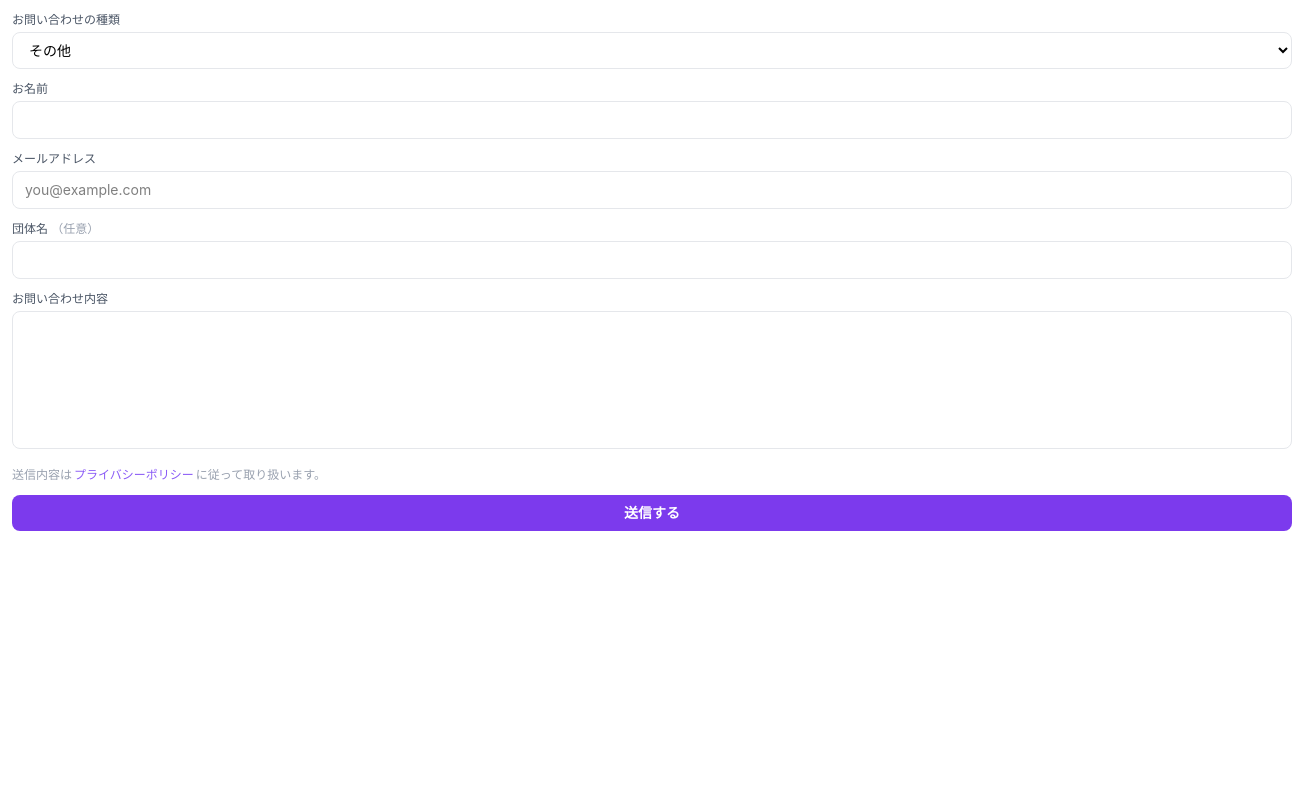
Test: InquiryForm › レート制限（429）の場合はサーバーのメッセージを表示する
Type "山田 太郎" into the field labelled "お名前" at (652, 120), box [12, 101, 1292, 139]
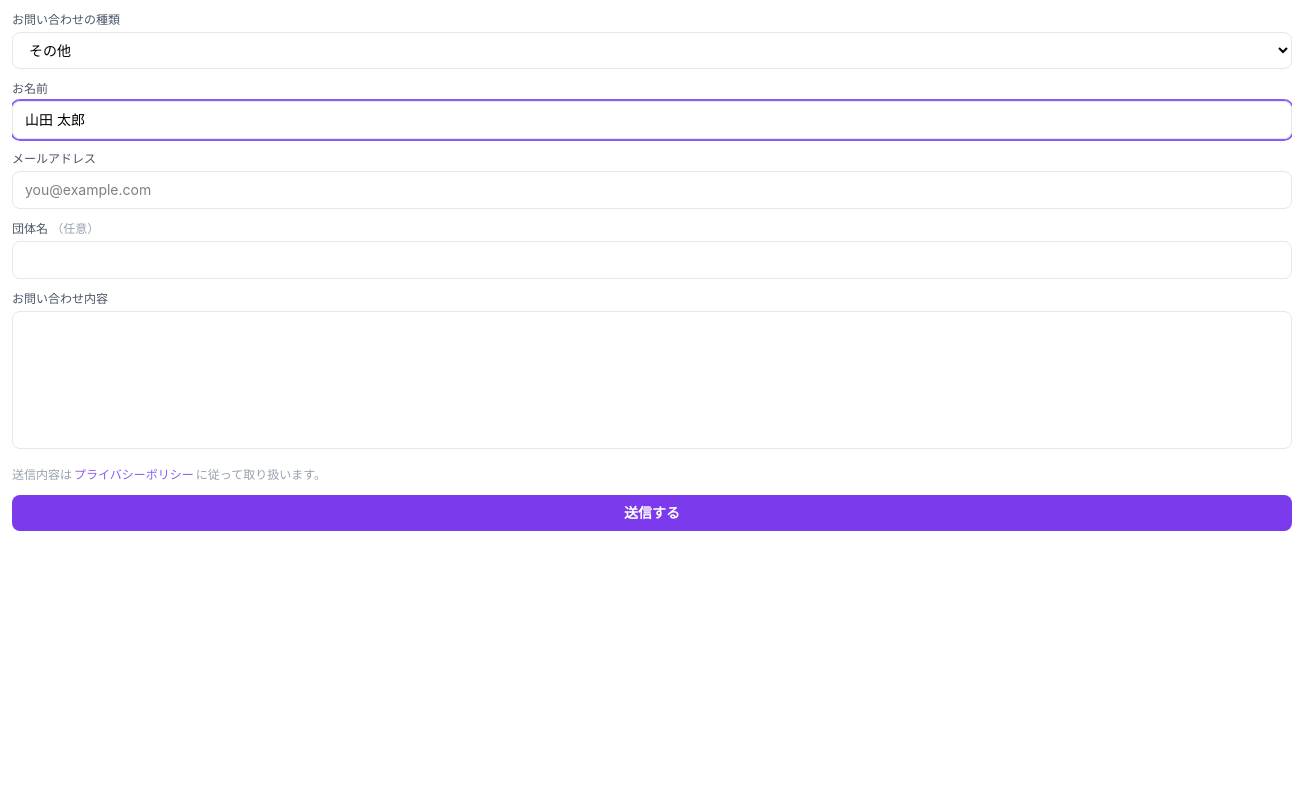
Type "yamada@example.com" into the field labelled "メールアドレス" at (652, 190), box [12, 171, 1292, 209]
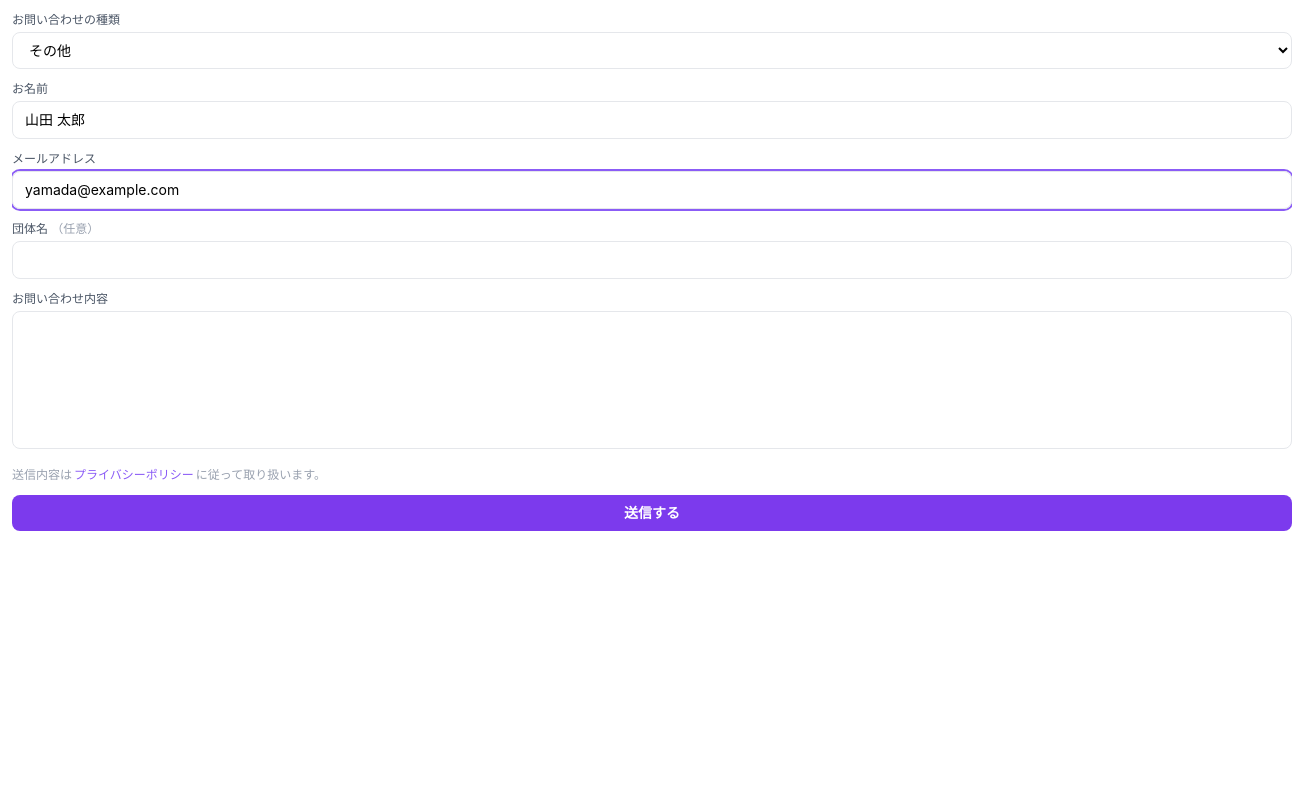
Type "団体を復元してください" into the text box labelled "お問い合わせ内容" at (652, 380), box [12, 311, 1292, 449]
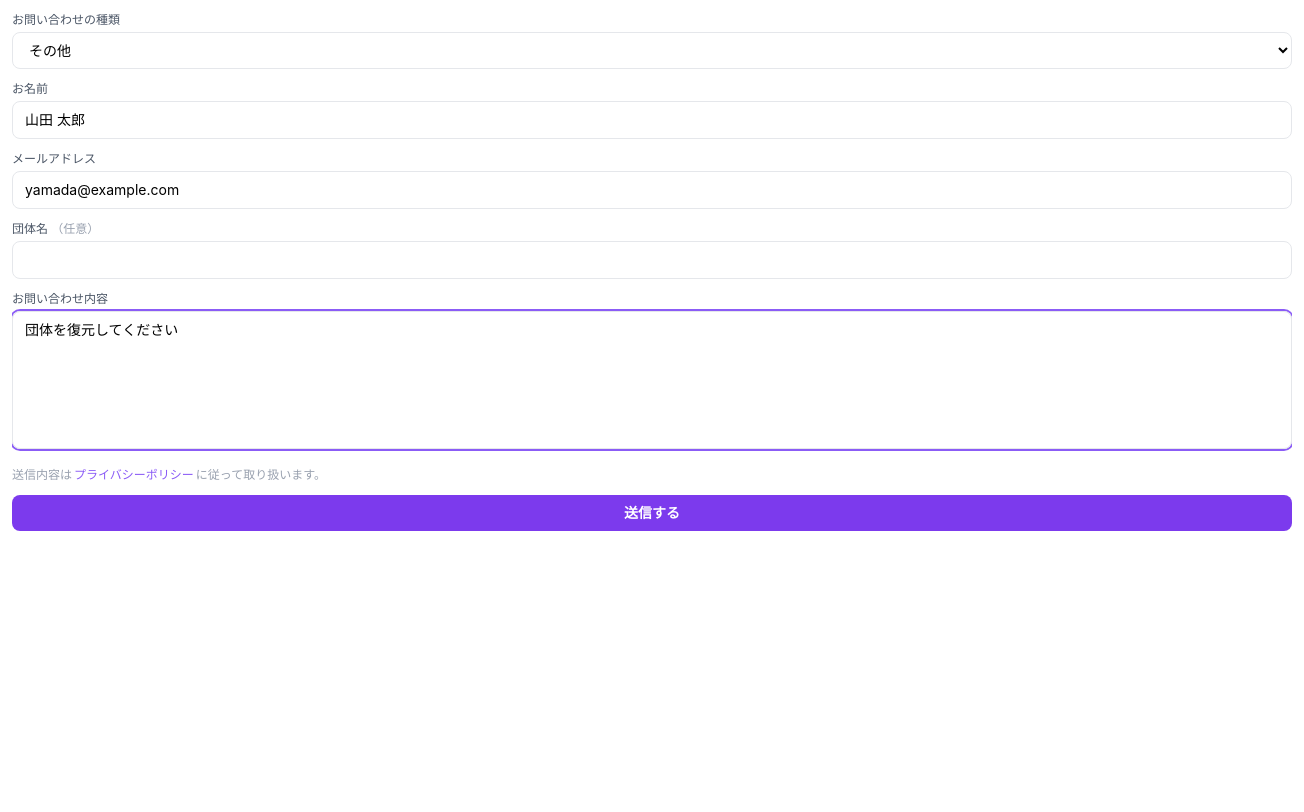
Click the button "送信する" at (652, 513), box [12, 495, 1292, 531]
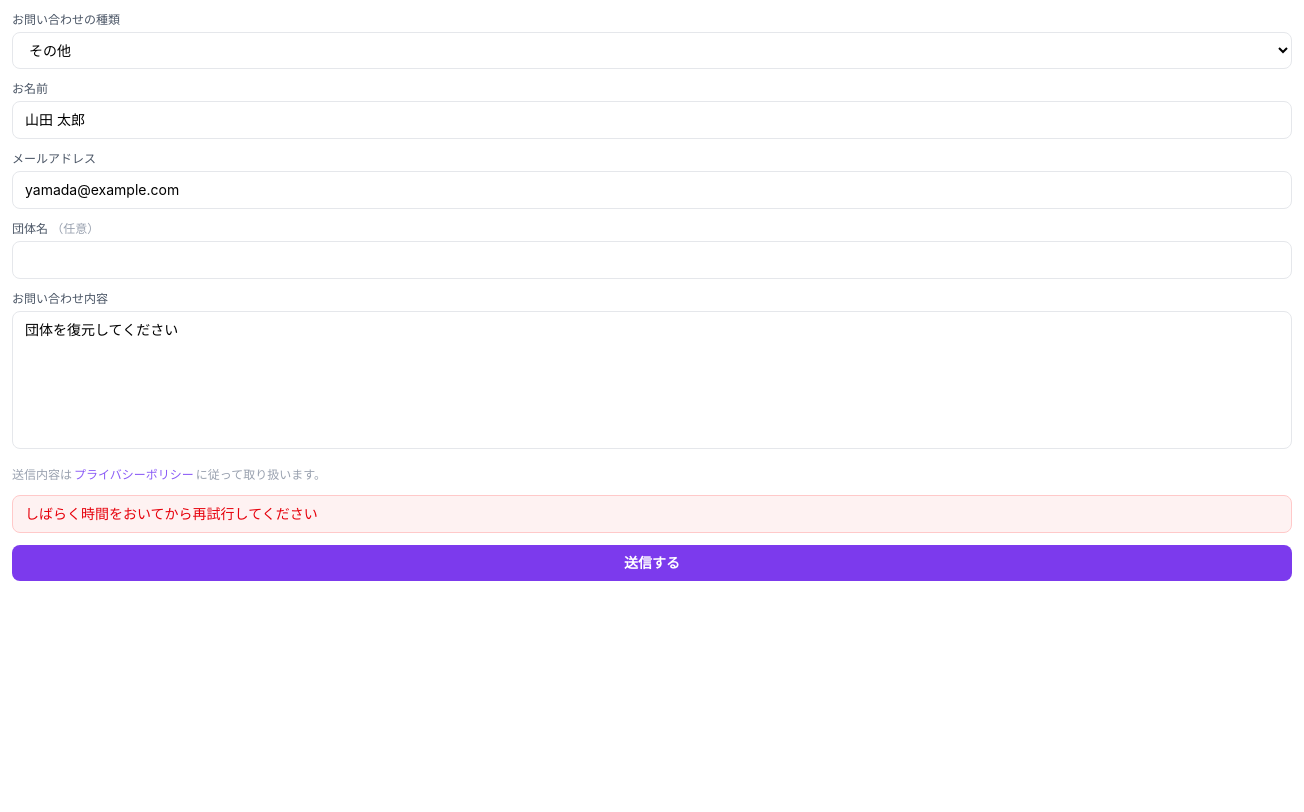
expect the message reads "しばらく時間をおいてから再試行してください": met, box [25, 505, 318, 522]
